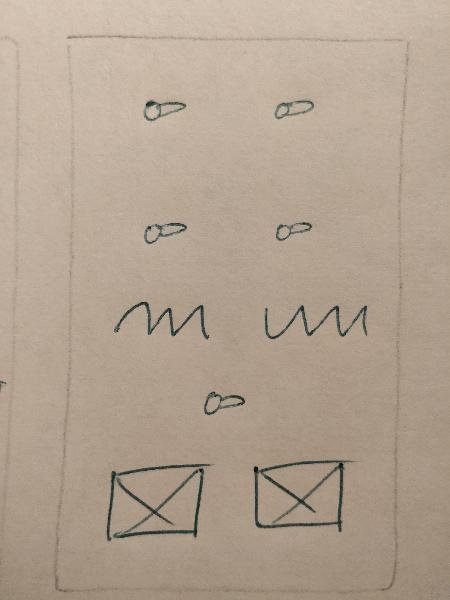image: (101, 453, 216, 552), (241, 446, 360, 541)
switch: (260, 81, 327, 131), (258, 205, 329, 252), (134, 204, 197, 255), (132, 83, 200, 130), (195, 379, 260, 425)
text: (252, 285, 377, 353), (104, 287, 220, 357)
